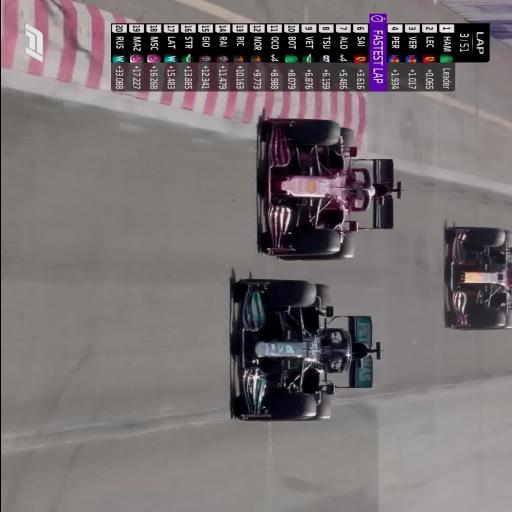f1_car: (234, 279, 380, 421), (262, 118, 401, 260), (446, 227, 512, 330)
